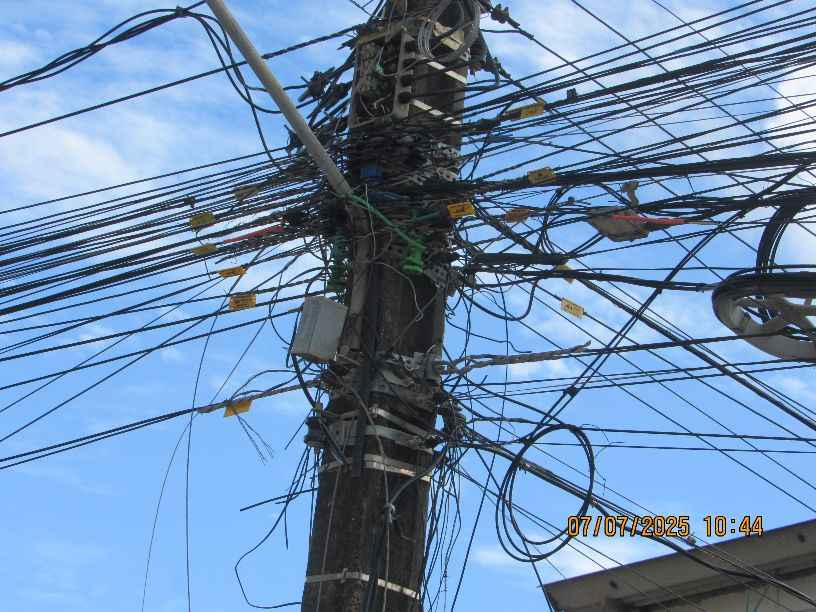coaxial: (467, 193, 769, 254)
fibra_optica: (415, 337, 636, 373), (175, 379, 350, 423), (455, 269, 690, 301), (148, 281, 340, 313), (158, 214, 339, 242), (181, 165, 313, 202), (195, 248, 340, 279), (448, 100, 601, 128), (457, 165, 613, 190)
tronco_metalico: (496, 414, 593, 572)
